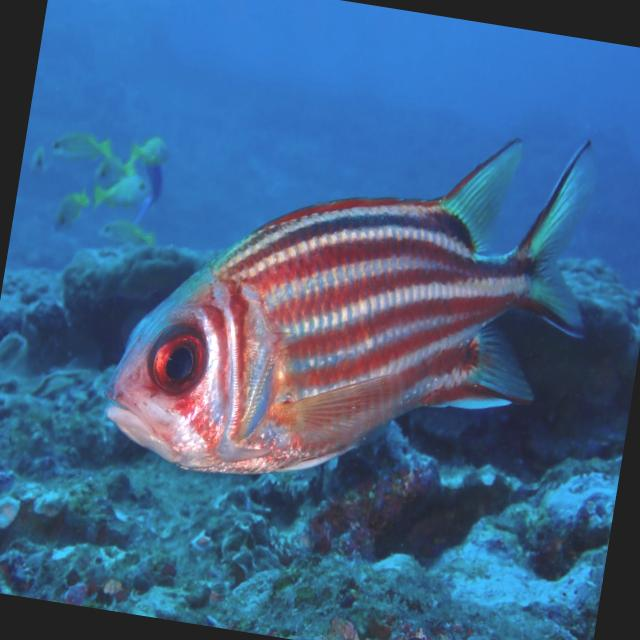Asker Baligi: (93, 66, 616, 528)
